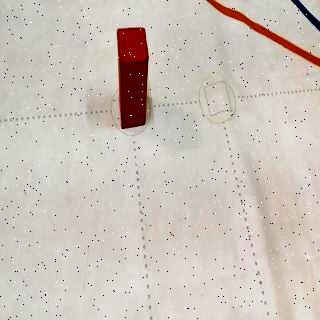redbox: (118, 27, 148, 128)
